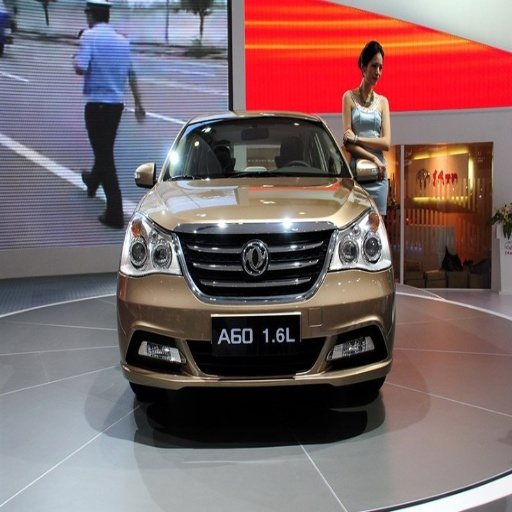front_bumper: (118, 229, 392, 407)
front_right_light: (124, 213, 178, 274)
hood: (147, 178, 369, 230)
